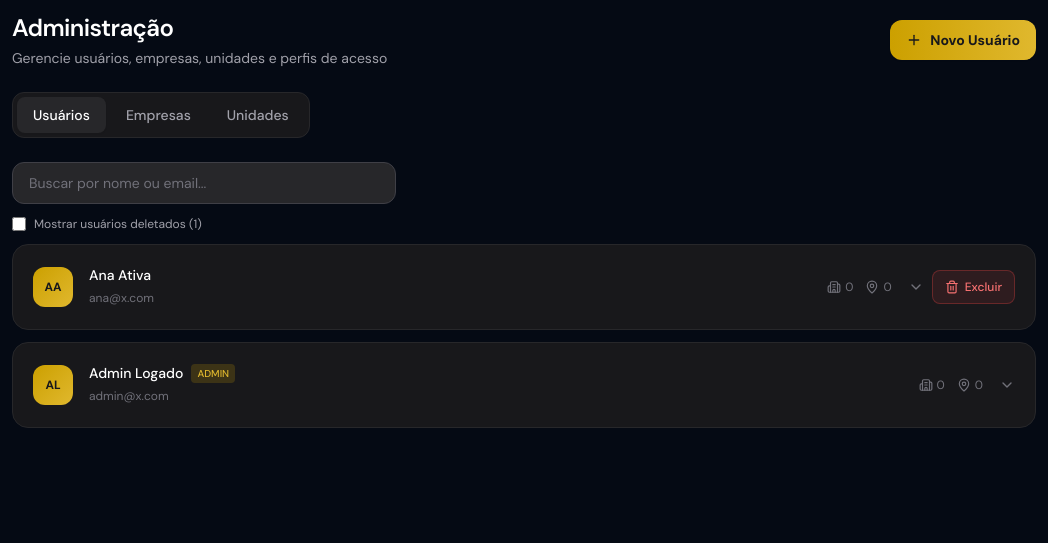
AdminPage portal — lifecycle de usuarios › oculta deletados por padrao; toggle com contador os exibe com badge
Expected: the text "Ana Ativa" is shown, x1=89 y1=265 x2=151 y2=285
Expected: the text "Bruno Deletado" is not shown
Click the checkbox labelled "Mostrar usuários deletados (1)": (19, 224) x1=12 y1=217 x2=26 y2=231
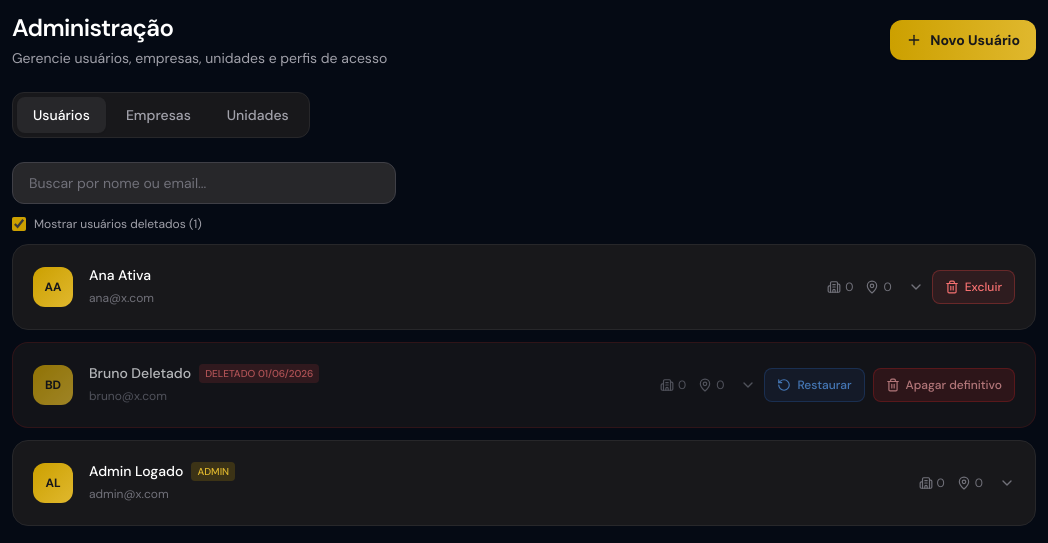
Now the text "Bruno Deletado" is shown, box x1=89 y1=363 x2=191 y2=383
Now the text "DELETADO 01/06/2026" is shown, box x1=199 y1=364 x2=319 y2=382
